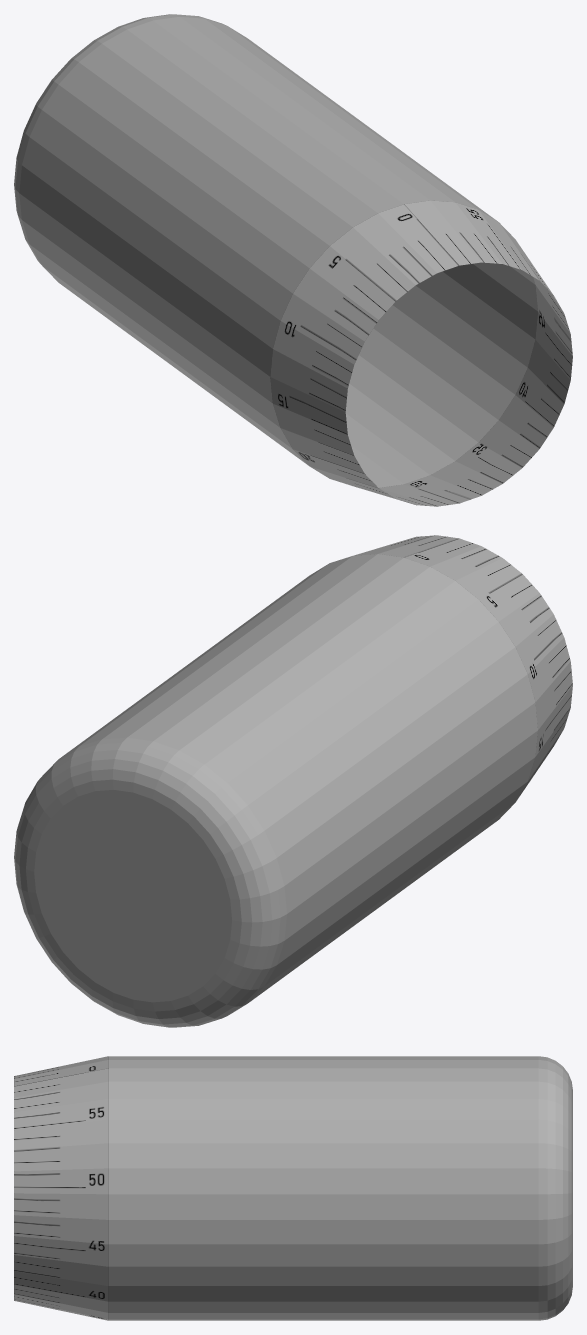
File: Ручка (Шкала №3) v2.fbx
The picture shows the model from 3 angles, top to bottom: view 1: azimuth 30°, elevation 25°; view 2: azimuth 150°, elevation 25°; view 3: azimuth 270°, elevation 25°; orthographic projection. The views are drawn at different scales.
Visible parts, largest first — view 1: Ручка; view 2: Ручка; view 3: Ручка.
Part boxes in pixels (x1=…): Ручка: x1=14, y1=14, x2=572, y2=506; Ручка: x1=14, y1=535, x2=572, y2=1027; Ручка: x1=14, y1=1056, x2=572, y2=1320.
Size of the model in its own units: 2.94 by 2.94 by 6.21.
1 material, 1 textured.
